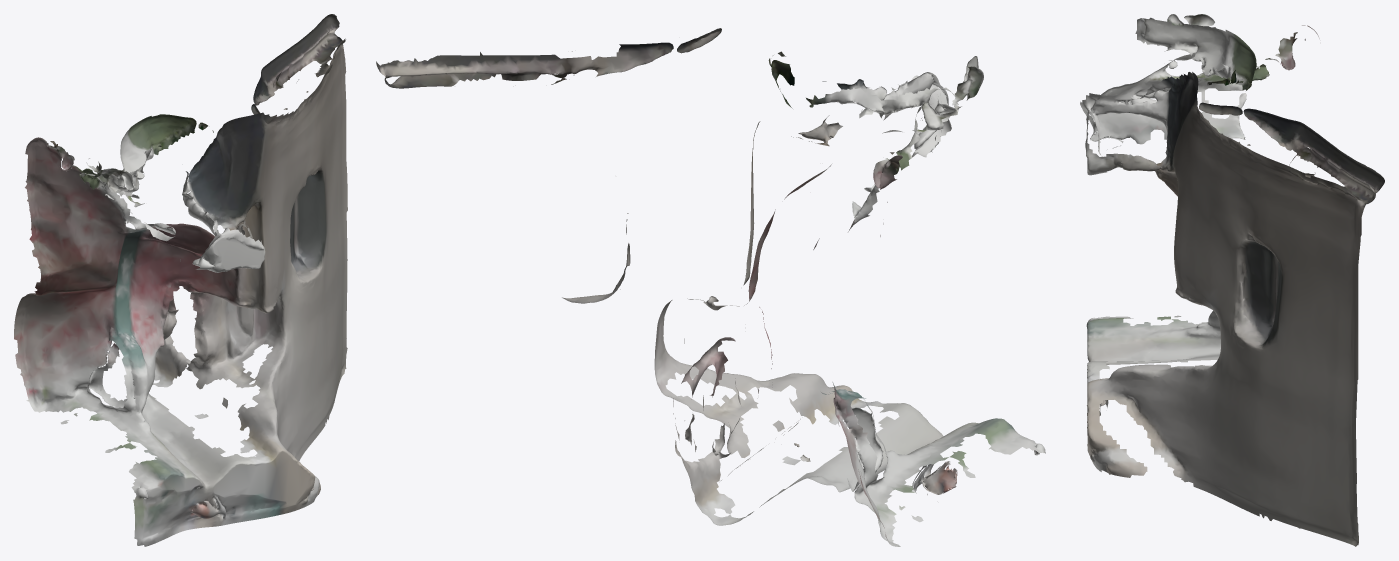
The model's file is mesh_39b6810dbace.glb.
3 views of the same model, side by side, from view 1: azimuth 30°, elevation 25°; view 2: azimuth 150°, elevation 25°; view 3: azimuth 270°, elevation 25° (orthographic). The views are drawn at different scales.
Size of the model in its own units: 1.04 by 1.05 by 0.7679.
